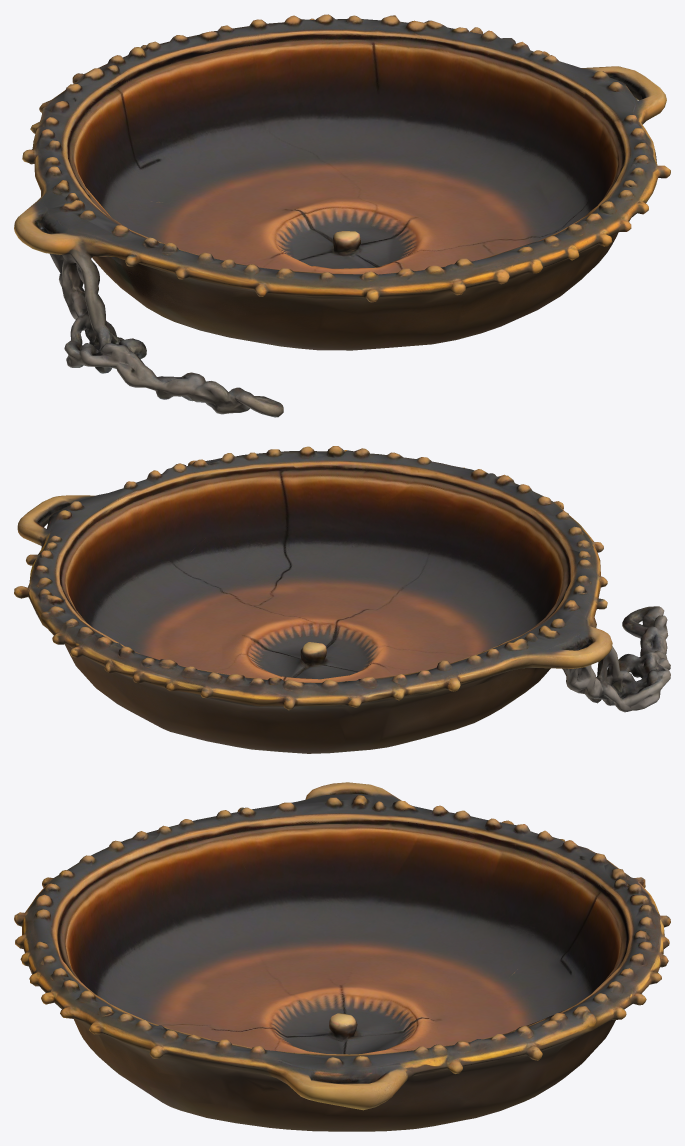
Rendered from Meshy_AI_A_broken_scale_pan_fr_0526061632_texture.fbx.
3 renders of one model, top to bottom at view 1: azimuth 30°, elevation 25°; view 2: azimuth 150°, elevation 25°; view 3: azimuth 270°, elevation 25°, orthographic. The views are drawn at different scales.
Parts seen in each view (by area): view 1: Mesh_0; view 2: Mesh_0; view 3: Mesh_0.
Part boxes in pixels (<box>): Mesh_0: <box>14,14,670,417</box>; Mesh_0: <box>14,446,670,753</box>; Mesh_0: <box>14,782,670,1131</box>.
Bounding box in the file's own units: 200 × 36.02 × 178.
1 material, 1 textured.
